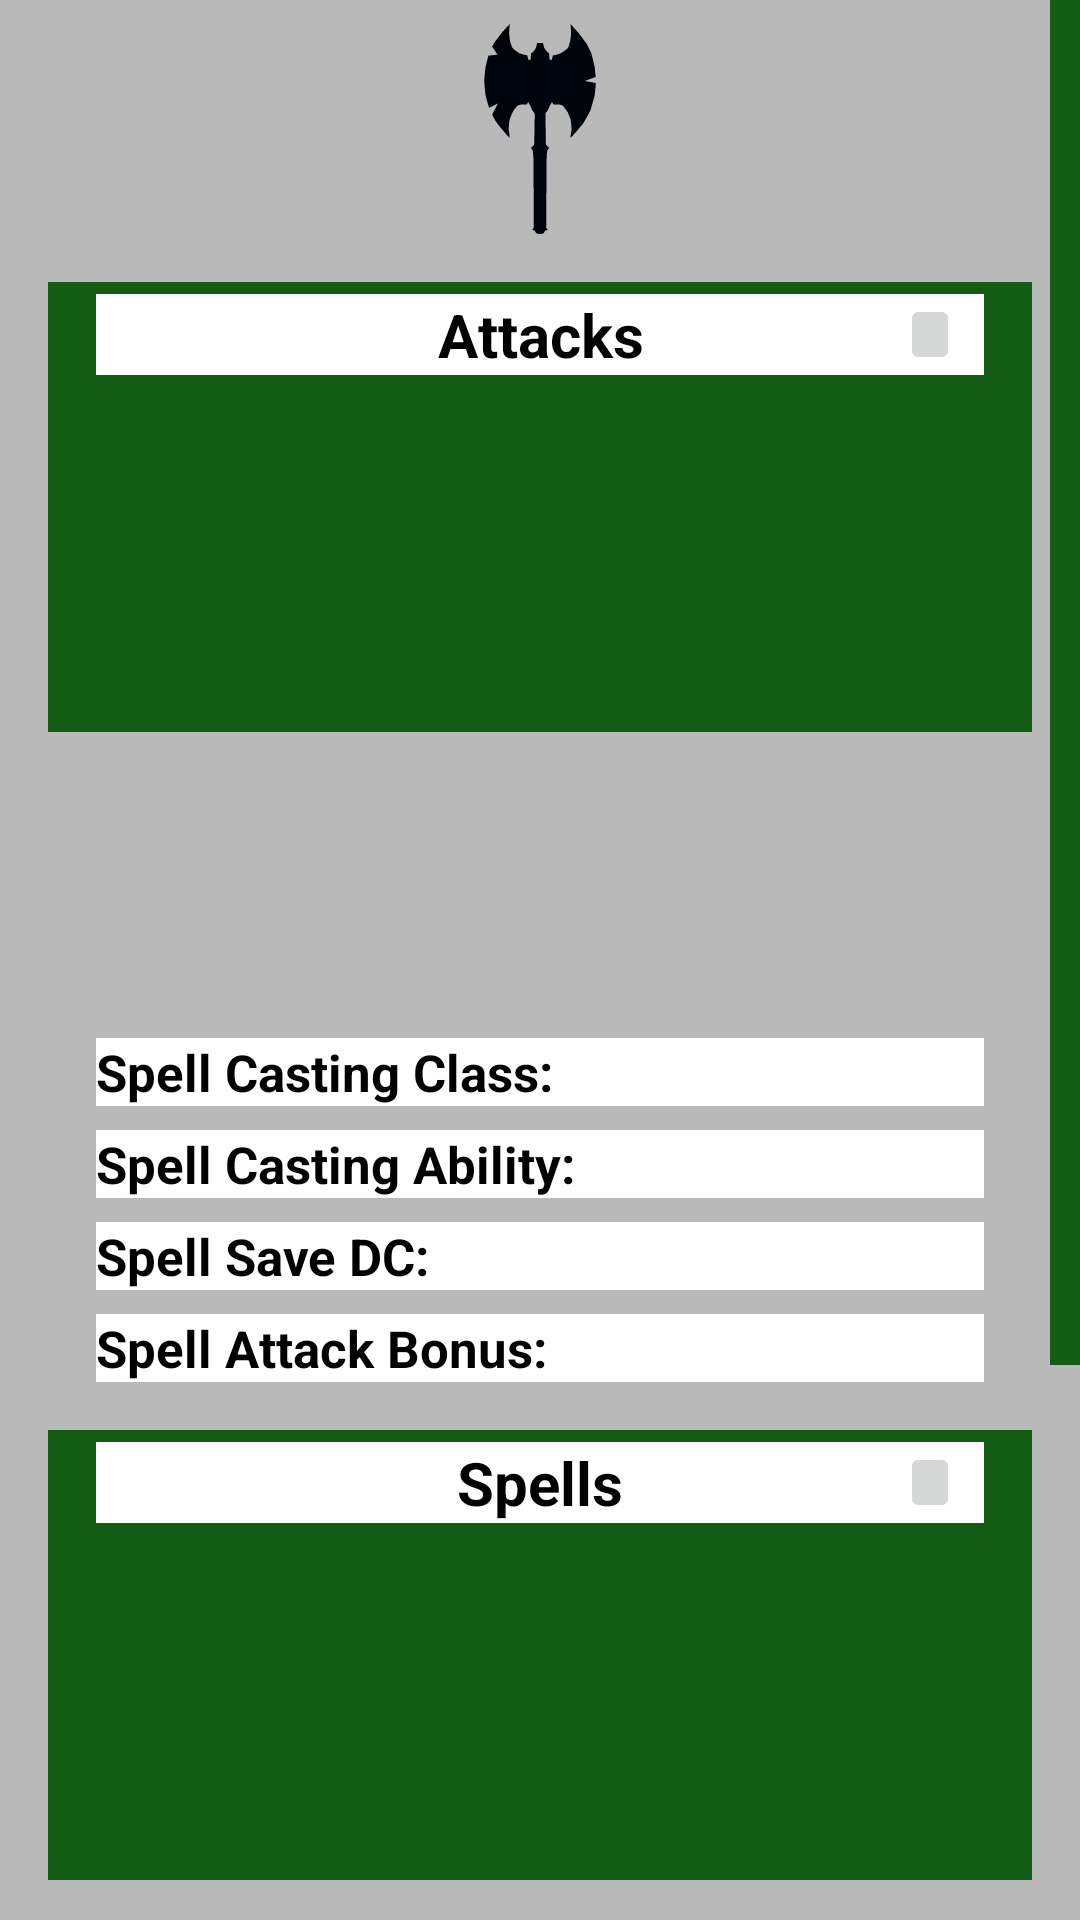

Where to tap for icons on this 1080px×1920px app screen, as point (x, y):
barbarian: point (540, 129)
